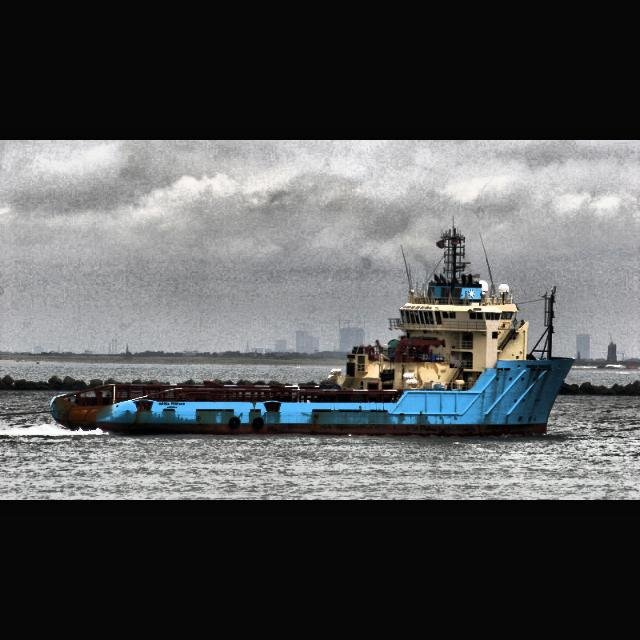anchor_handling_tug_supply: (49, 267, 579, 437)
